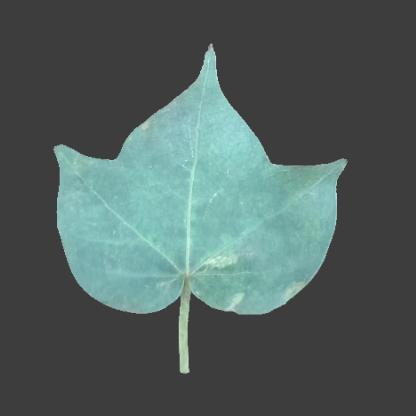healthy: (81, 172, 283, 298), (136, 131, 252, 166), (286, 169, 320, 271)
